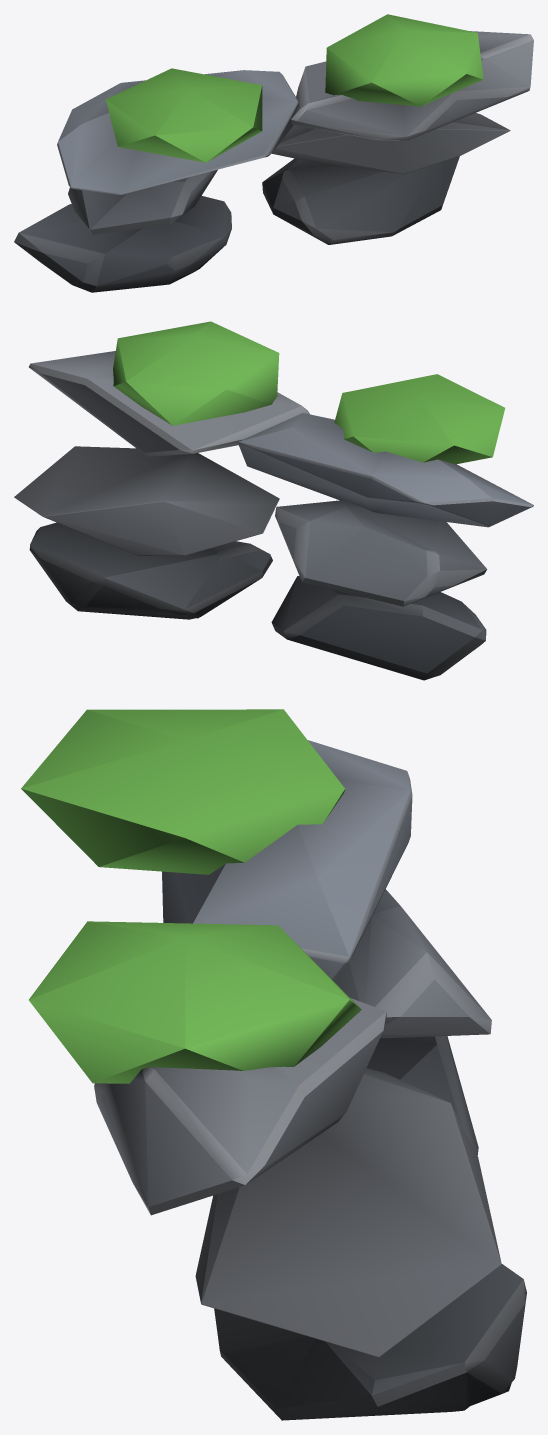
The model's file is PB_Cliff_B.glb.
3 renders of one model, top to bottom at view 1: azimuth 30°, elevation 25°; view 2: azimuth 150°, elevation 25°; view 3: azimuth 270°, elevation 25°, orthographic. The views are drawn at different scales.
Parts seen in each view (by area): view 1: PB_Cliff_B_1_Slate, PB_Cliff_B_2_SmoothPlastic; view 2: PB_Cliff_B_1_Slate, PB_Cliff_B_2_SmoothPlastic; view 3: PB_Cliff_B_1_Slate, PB_Cliff_B_2_SmoothPlastic.
Part boxes in pixels (left/top/right/bottom): PB_Cliff_B_1_Slate: left=14, top=31, right=533, bottom=292; PB_Cliff_B_2_SmoothPlastic: left=105, top=14, right=483, bottom=162; PB_Cliff_B_1_Slate: left=14, top=351, right=533, bottom=680; PB_Cliff_B_2_SmoothPlastic: left=113, top=321, right=505, bottom=464; PB_Cliff_B_1_Slate: left=94, top=740, right=526, bottom=1420; PB_Cliff_B_2_SmoothPlastic: left=21, top=709, right=361, bottom=1083.
Size of the model in its own units: 15.5 by 6.57 by 7.09.
